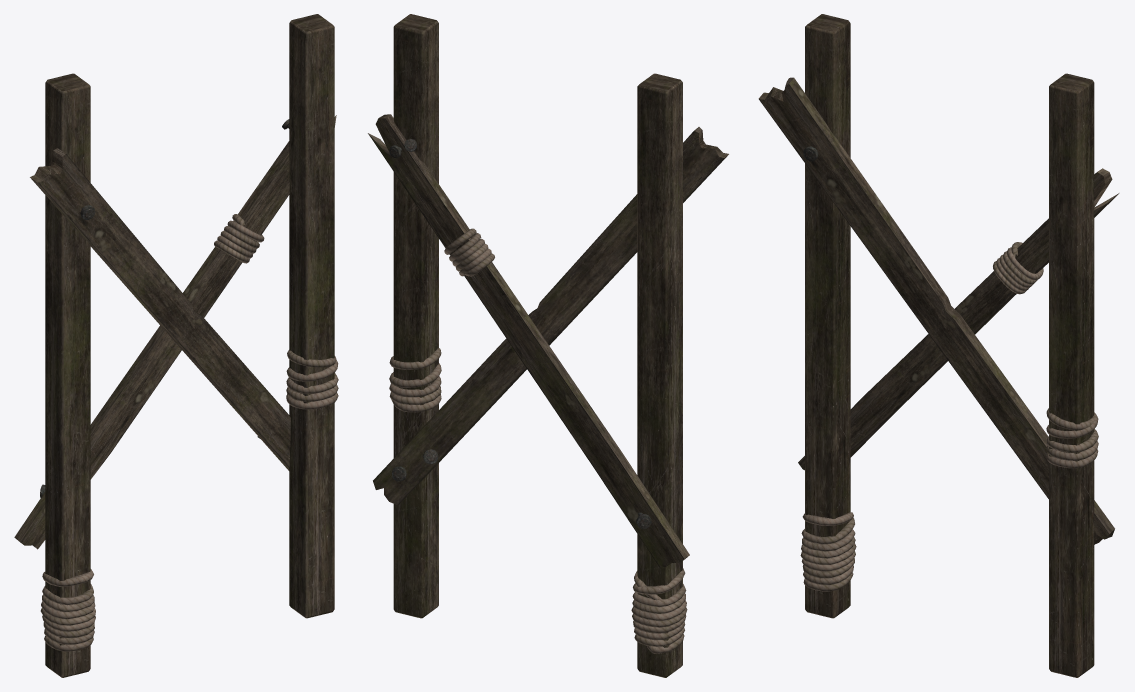
Rendered from dock_lower01.fbx.
3 views of the same model, side by side, from view 1: azimuth 30°, elevation 25°; view 2: azimuth 150°, elevation 25°; view 3: azimuth 330°, elevation 25° (orthographic).
Visible parts, largest first — view 1: dock_lower01; view 2: dock_lower01; view 3: dock_lower01.
Boxes of the visible parts, left/top/right/bottom form: dock_lower01: left=14, top=14, right=338, bottom=677; dock_lower01: left=368, top=14, right=728, bottom=677; dock_lower01: left=758, top=14, right=1119, bottom=677.
Bounding box in the file's own units: 409 × 691 × 92.28.
